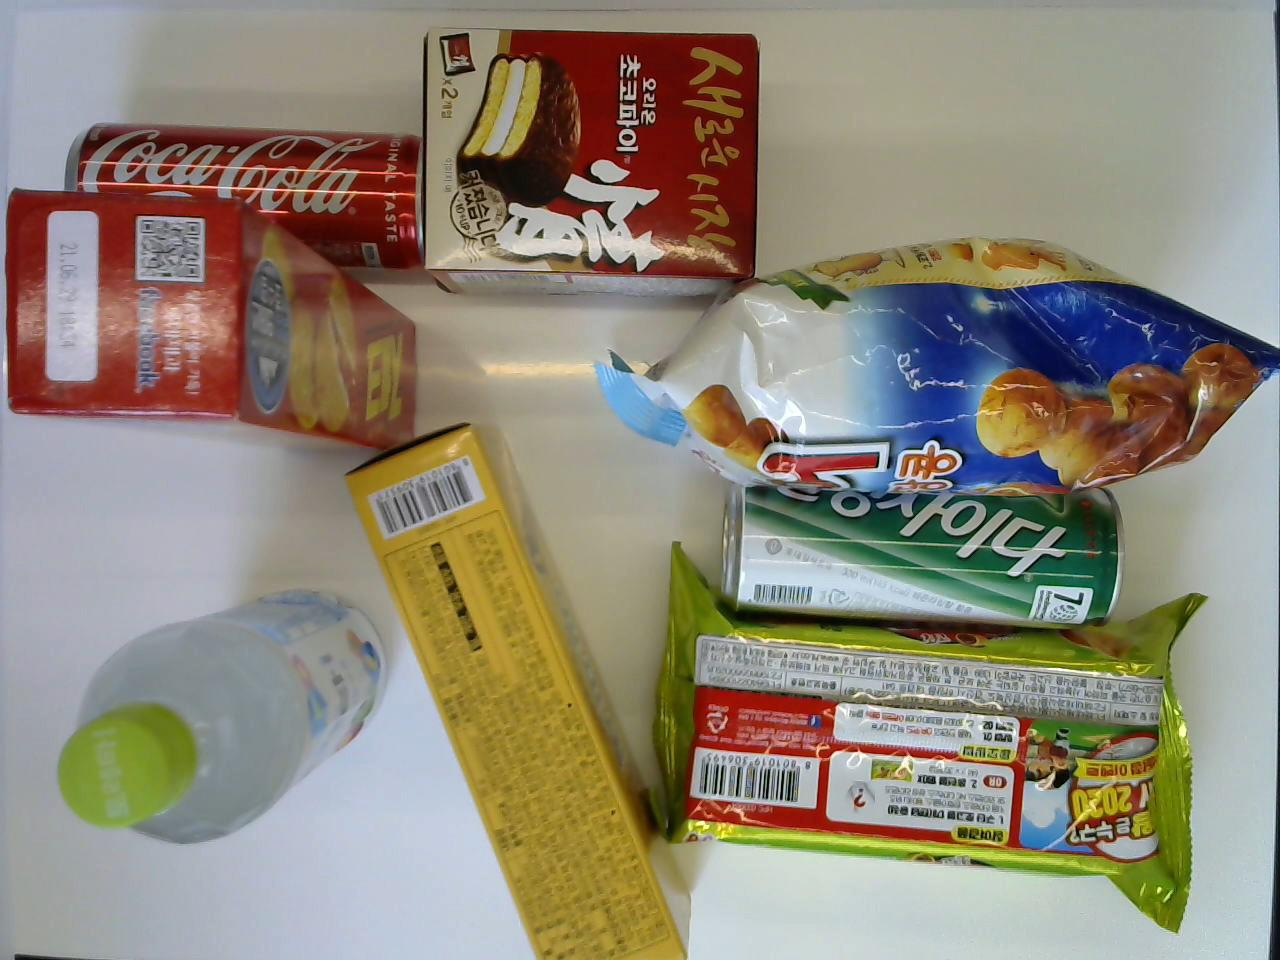buttering: (337, 419, 692, 956)
chocopie: (418, 28, 756, 297)
cidar: (718, 486, 1123, 635)
coke: (65, 123, 431, 285)
homerunball: (652, 535, 1206, 936)
squid_peanut: (593, 233, 1277, 495)
toreta: (54, 588, 387, 841)
zec: (4, 189, 416, 447)
